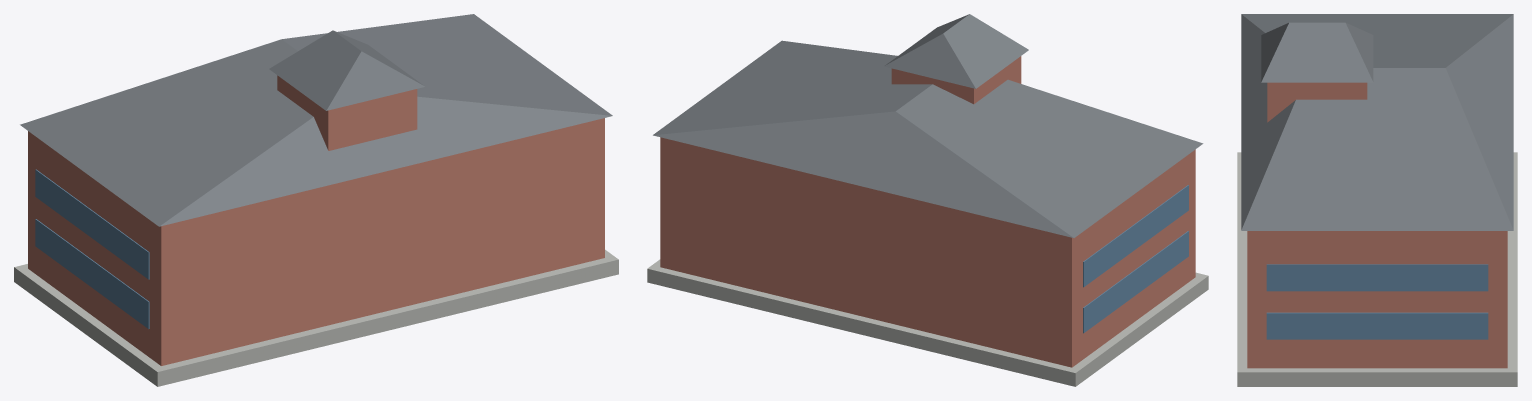
Rendered from school_brick_elementary.glb.
3 views of the same model, side by side, from view 1: azimuth 30°, elevation 25°; view 2: azimuth 150°, elevation 25°; view 3: azimuth 270°, elevation 25° (orthographic). The views are drawn at different scales.
Parts seen in each view (by area): view 1: school_brick_elementary; view 2: school_brick_elementary; view 3: school_brick_elementary.
Boxes of the visible parts, <box> form: school_brick_elementary: <box>14,14,618,386</box>; school_brick_elementary: <box>647,14,1208,386</box>; school_brick_elementary: <box>1237,14,1517,386</box>.
Size of the model in its own units: 26 by 14 by 14.
